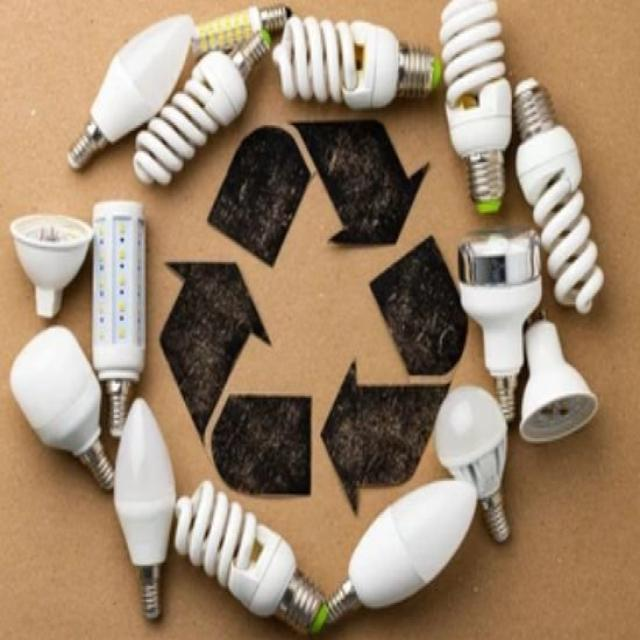electronic: (5, 0, 605, 638), (172, 475, 478, 637), (512, 76, 604, 314), (66, 12, 195, 172), (8, 324, 114, 492), (346, 477, 478, 609), (438, 0, 513, 213), (112, 395, 177, 620), (456, 225, 542, 378), (433, 382, 511, 543), (518, 316, 598, 444), (8, 211, 93, 318)
